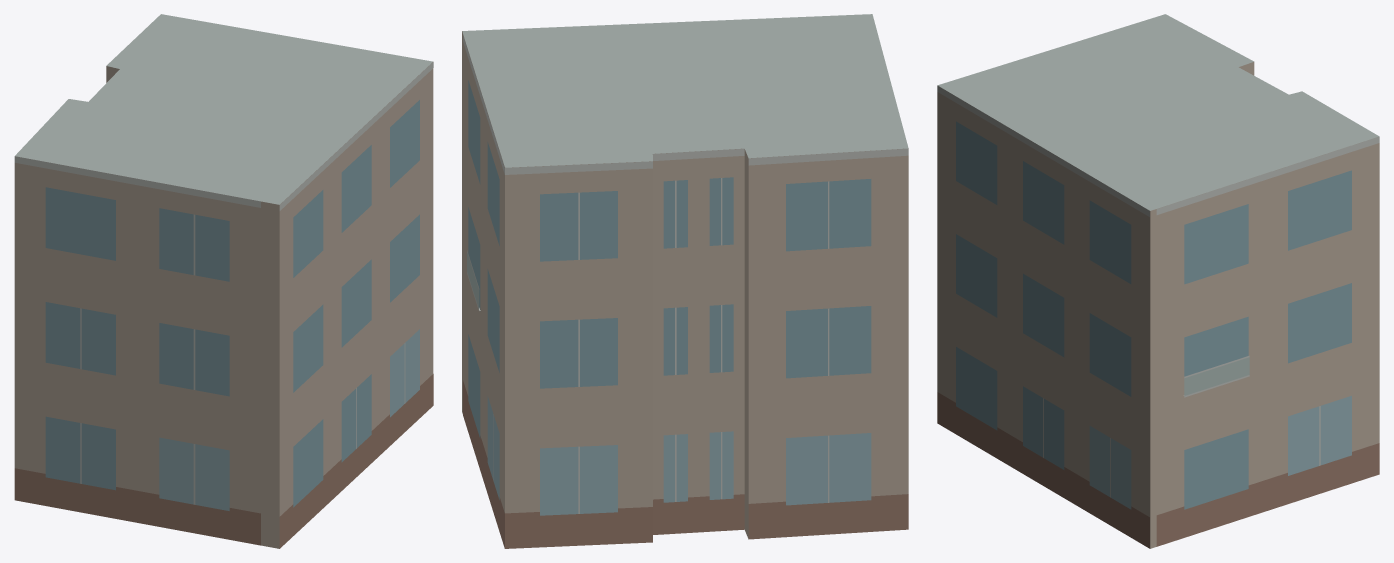
The model's file is survey-upis-32572982.glb.
3 views of the same model, side by side, from view 1: azimuth 30°, elevation 25°; view 2: azimuth 150°, elevation 25°; view 3: azimuth 270°, elevation 25° (orthographic). The views are drawn at different scales.
Parts seen in each view (by area): view 1: survey-upis-32572982.tmp; view 2: survey-upis-32572982.tmp; view 3: survey-upis-32572982.tmp.
Part boxes in pixels (box(x1,y1,x2,y2)): survey-upis-32572982.tmp: box(14, 14, 433, 548); survey-upis-32572982.tmp: box(462, 14, 908, 548); survey-upis-32572982.tmp: box(937, 14, 1379, 548).
Size of the model in its own units: 16.01 by 12.8 by 15.19.
